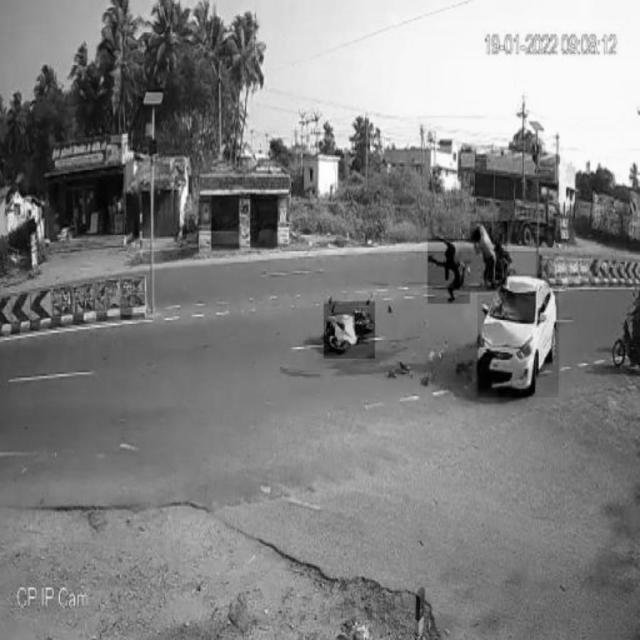person: (428, 239, 470, 303), (470, 221, 507, 292)
vehicle: (478, 274, 559, 398), (324, 302, 375, 359)
